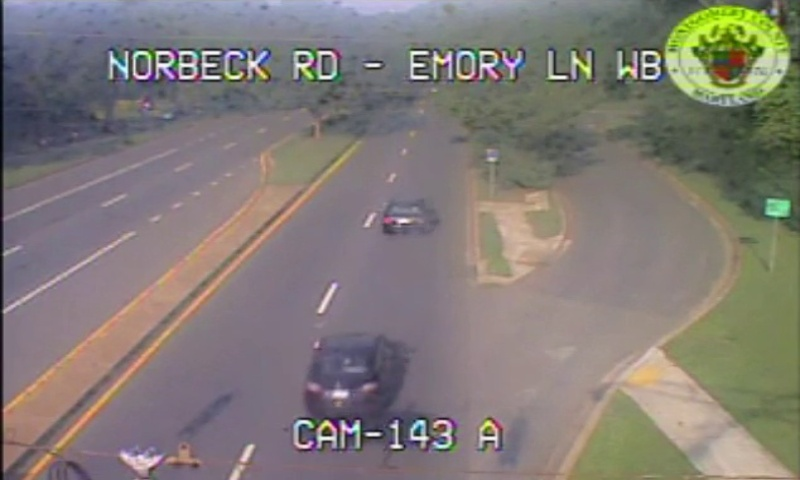car: (304, 333, 382, 414), (382, 200, 423, 230)
